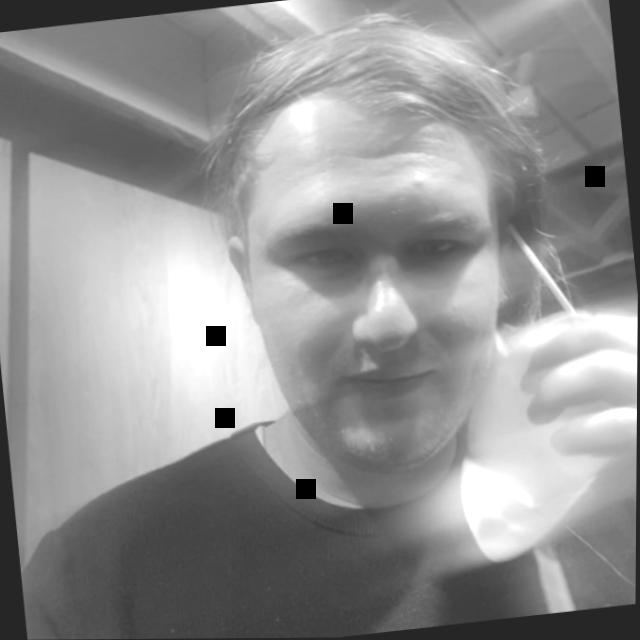NO-Mask: (166, 0, 565, 494)
